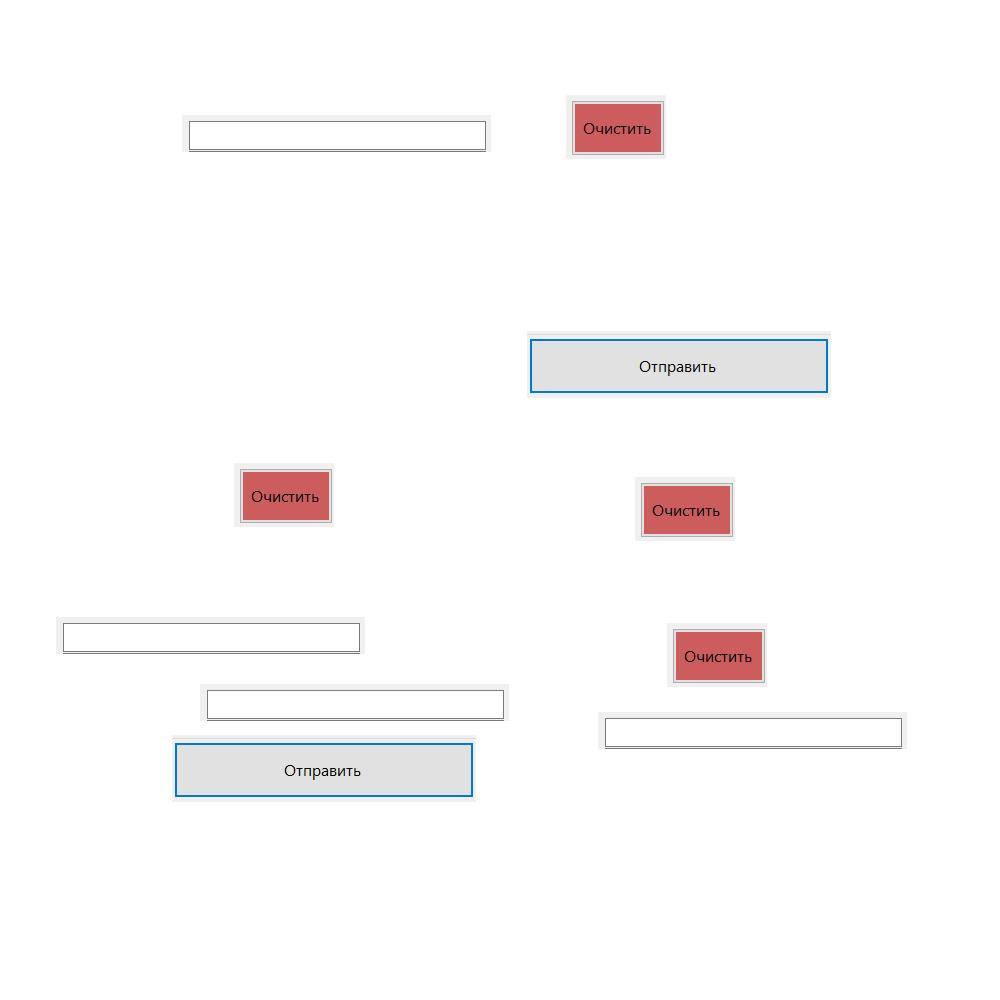Button: (527, 331, 831, 398), (172, 735, 476, 802), (566, 95, 666, 159), (635, 477, 735, 541), (667, 623, 767, 687), (234, 463, 334, 527)
EditText-: (598, 712, 907, 749), (56, 617, 365, 654), (182, 115, 491, 152), (200, 684, 509, 721)
